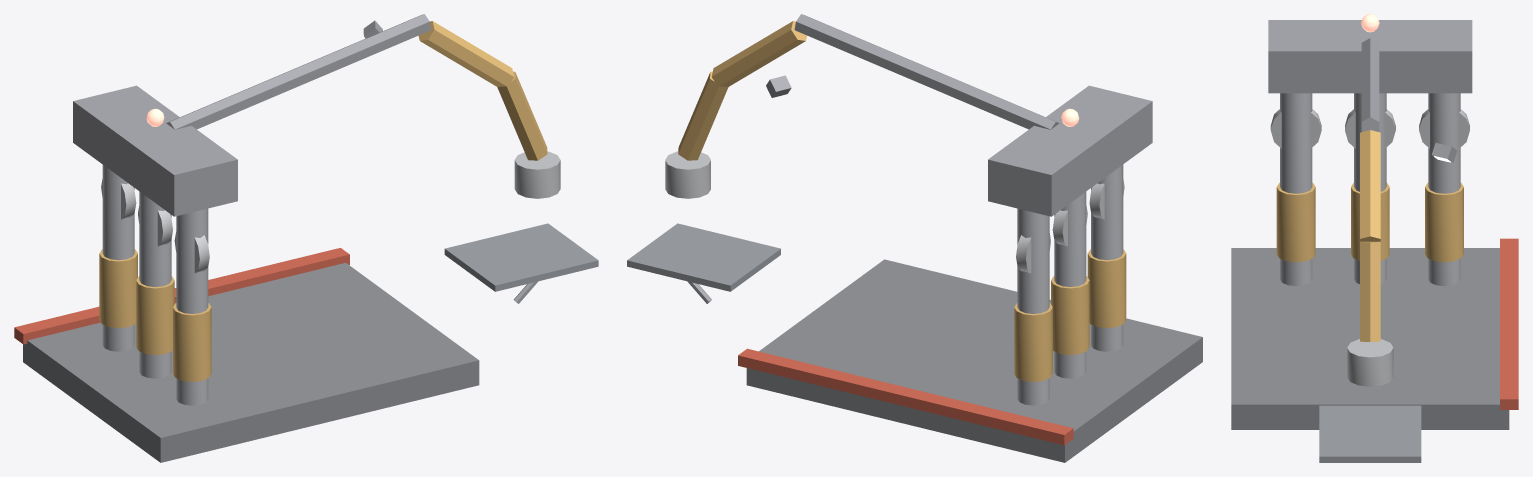
The model's file is render.glb.
3 views of the same model, side by side, from view 1: azimuth 30°, elevation 25°; view 2: azimuth 150°, elevation 25°; view 3: azimuth 270°, elevation 25° (orthographic).
Parts seen in each view (by area): view 1: base, manifold, drip_shield, boom, base_hazard, riser0, riser1, riser2, wrap0, wrap2, wrap1, hose_a (+2 smaller); view 2: base, manifold, base_hazard, drip_shield, boom, riser2, riser0, riser1, wrap2, wrap0, wrap1, hose_a (+2 smaller); view 3: base, manifold, drip_shield, riser0, riser2, base_hazard, wrap0, wrap2, hose_a, hose_b, coupler, boom (+6 smaller).
Part boxes in pixels (x1,y1,x2,y2): base: (23, 263, 479, 462); manifold: (73, 85, 237, 216); drip_shield: (444, 223, 598, 291); boom: (166, 14, 431, 129); base_hazard: (14, 248, 349, 344); riser0: (176, 208, 208, 405); riser1: (139, 191, 171, 378); riser2: (102, 165, 134, 351); wrap0: (173, 303, 211, 381); wrap2: (99, 249, 137, 328); wrap1: (136, 276, 174, 354); hose_a: (418, 21, 513, 86); base: (746, 259, 1202, 462); manifold: (988, 85, 1152, 216); base_hazard: (738, 348, 1073, 445); drip_shield: (627, 223, 780, 291); boom: (794, 14, 1059, 129); riser2: (1017, 208, 1049, 405); riser0: (1091, 164, 1123, 351); riser1: (1054, 192, 1086, 378); wrap2: (1014, 303, 1052, 381); wrap0: (1087, 249, 1126, 328); wrap1: (1051, 276, 1089, 354); hose_a: (711, 21, 806, 86); base: (1231, 248, 1509, 429); manifold: (1268, 20, 1472, 93); drip_shield: (1319, 405, 1421, 462); riser0: (1280, 93, 1312, 286); riser2: (1428, 93, 1460, 286); base_hazard: (1500, 238, 1518, 409); wrap0: (1276, 182, 1315, 262); wrap2: (1425, 183, 1463, 262); hose_a: (1360, 130, 1380, 241); hose_b: (1360, 241, 1380, 341); coupler: (1347, 339, 1393, 386); boom: (1361, 38, 1379, 131).
Size of the model in its own units: 12.2 by 7.62 by 6.2.
